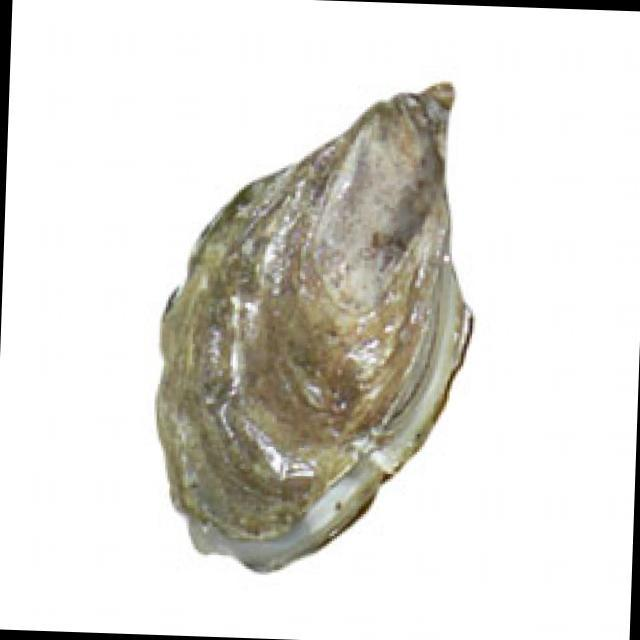Oyster- Indeterminate: (154, 82, 475, 576)
